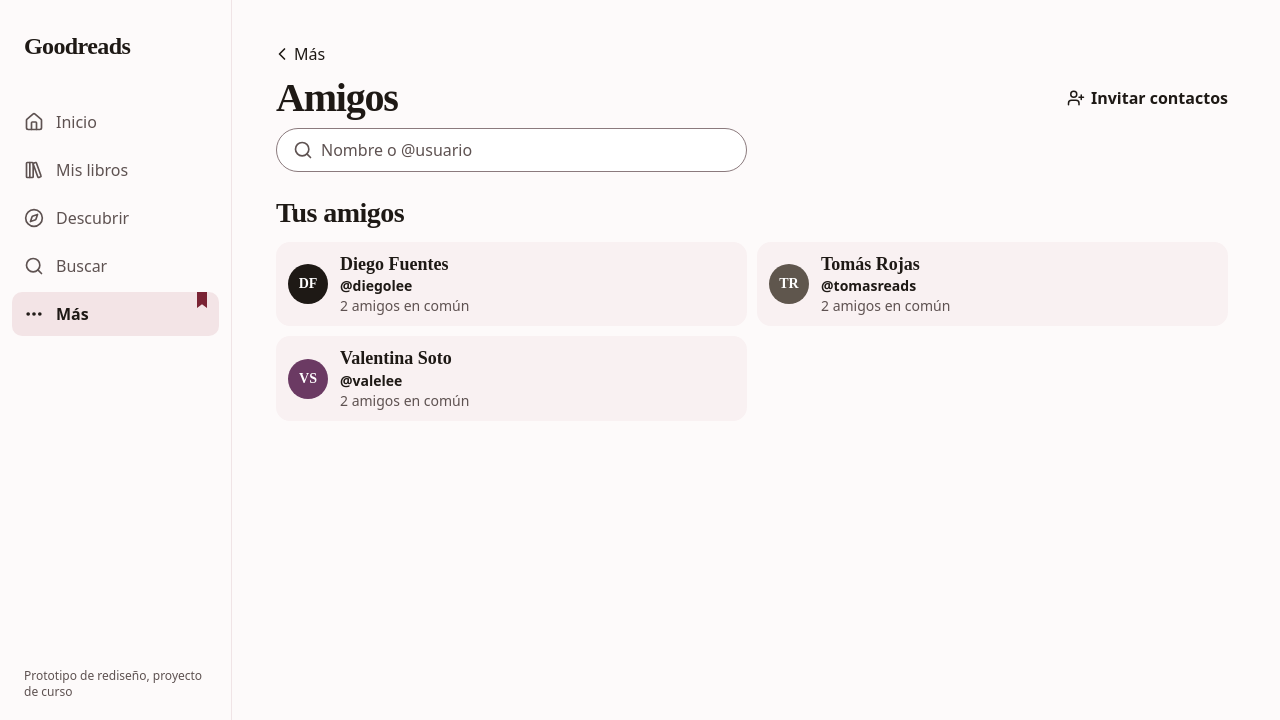
Test: FriendsPage search › searches the whole directory, not only the friends
In the search field named "Buscar personas": x=534, y=150 left=321, top=128, right=746, bottom=172, type "fernanda"
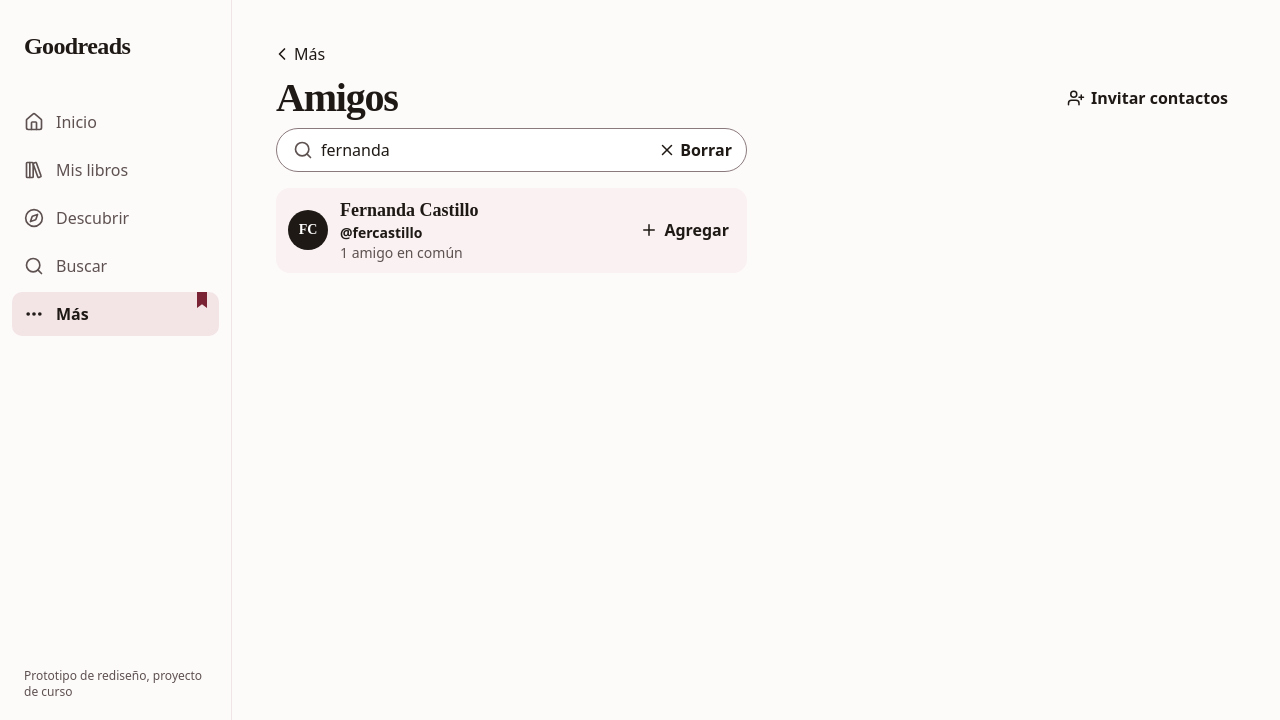
Now the heading "Tus amigos" is gone
